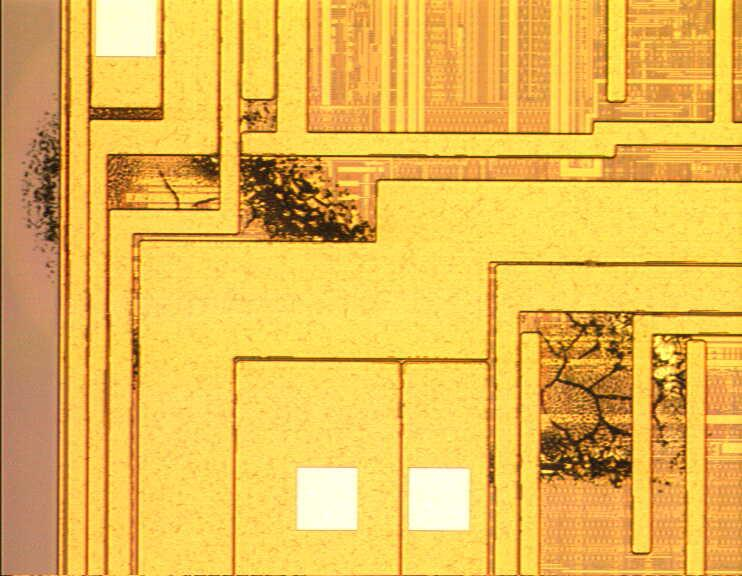BLOCK ETCH: (17, 73, 719, 503)
